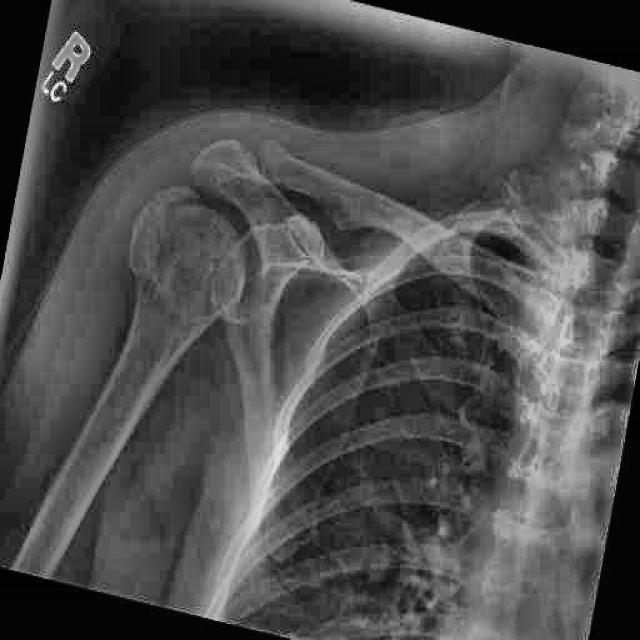shoulder fracture: (117, 156, 242, 262)
